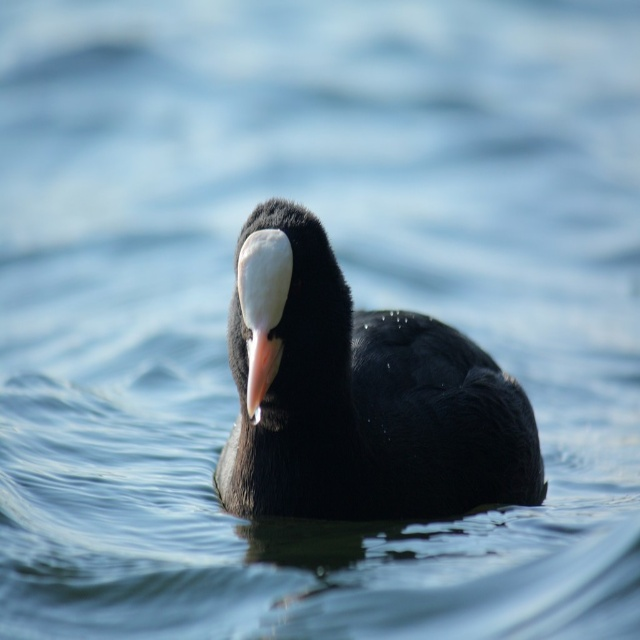Duck: (216, 197, 551, 530)
